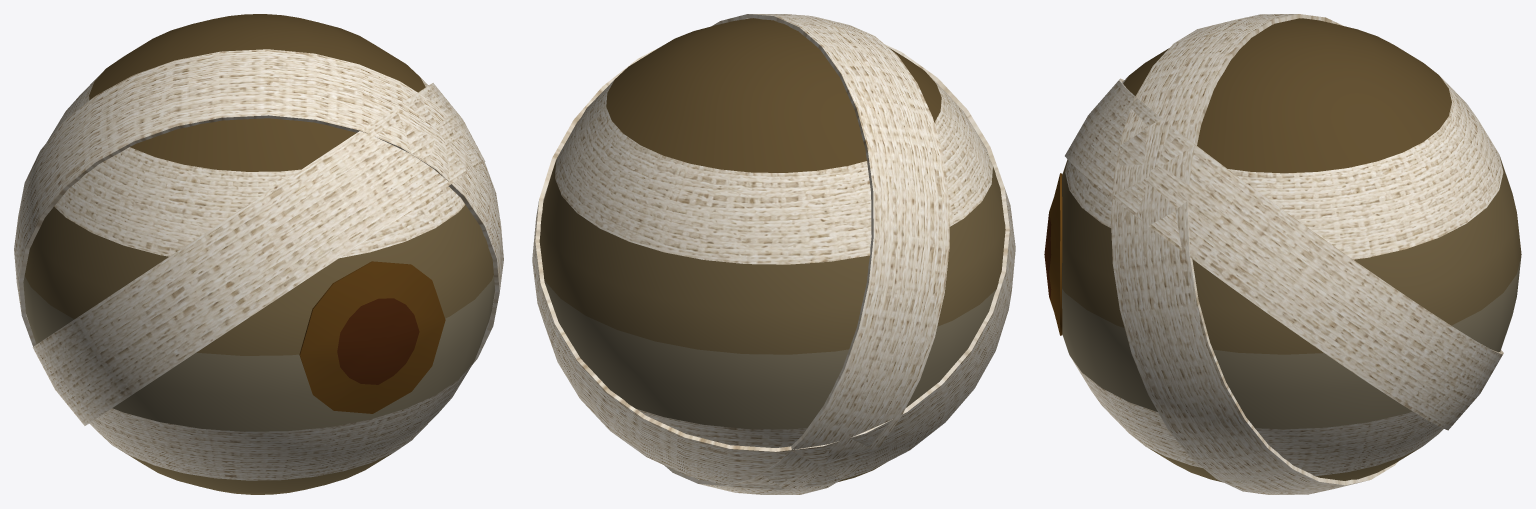
The picture shows the model from 3 angles, left to right: view 1: azimuth 30°, elevation 25°; view 2: azimuth 150°, elevation 25°; view 3: azimuth 270°, elevation 25°; orthographic projection.
Visible parts, largest first — view 1: J, B004, B003, B2, Eyes; view 2: J, B003, B2, B004; view 3: J, B004, B2, B003, Eyes.
Part boxes in pixels (left/top/right/bottom): J: left=23, top=14, right=495, bottom=494; B004: left=32, top=83, right=485, bottom=425; B003: left=46, top=69, right=472, bottom=480; B2: left=14, top=49, right=503, bottom=364; Eyes: left=299, top=261, right=445, bottom=413; J: left=539, top=18, right=1005, bottom=482; B003: left=555, top=73, right=992, bottom=447; B2: left=664, top=14, right=949, bottom=494; B004: left=532, top=44, right=1015, bottom=489; J: left=1062, top=18, right=1521, bottom=482; B004: left=1065, top=78, right=1503, bottom=430; B2: left=1111, top=14, right=1398, bottom=494; B003: left=1065, top=76, right=1503, bottom=475; Eyes: left=1044, top=173, right=1062, bottom=335.
Size of the model in its own units: 111 by 111 by 111.
